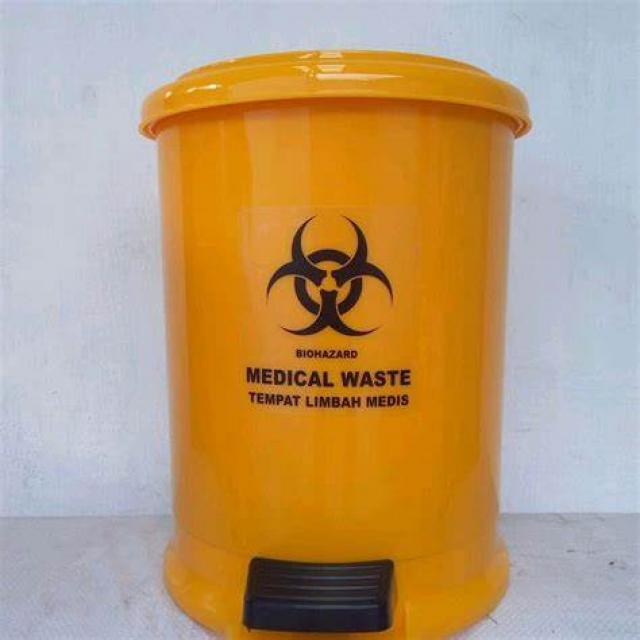garbage container: (129, 43, 532, 640)
